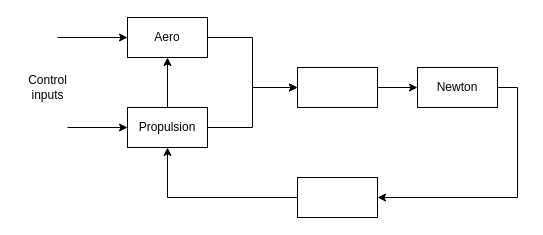
Some shapes in this 543 by 235 pixel diagram are drawn without their labels. Each missing label, with the centre of its shape:
Environment: pixel 337 197
Forces: pixel 337 87
